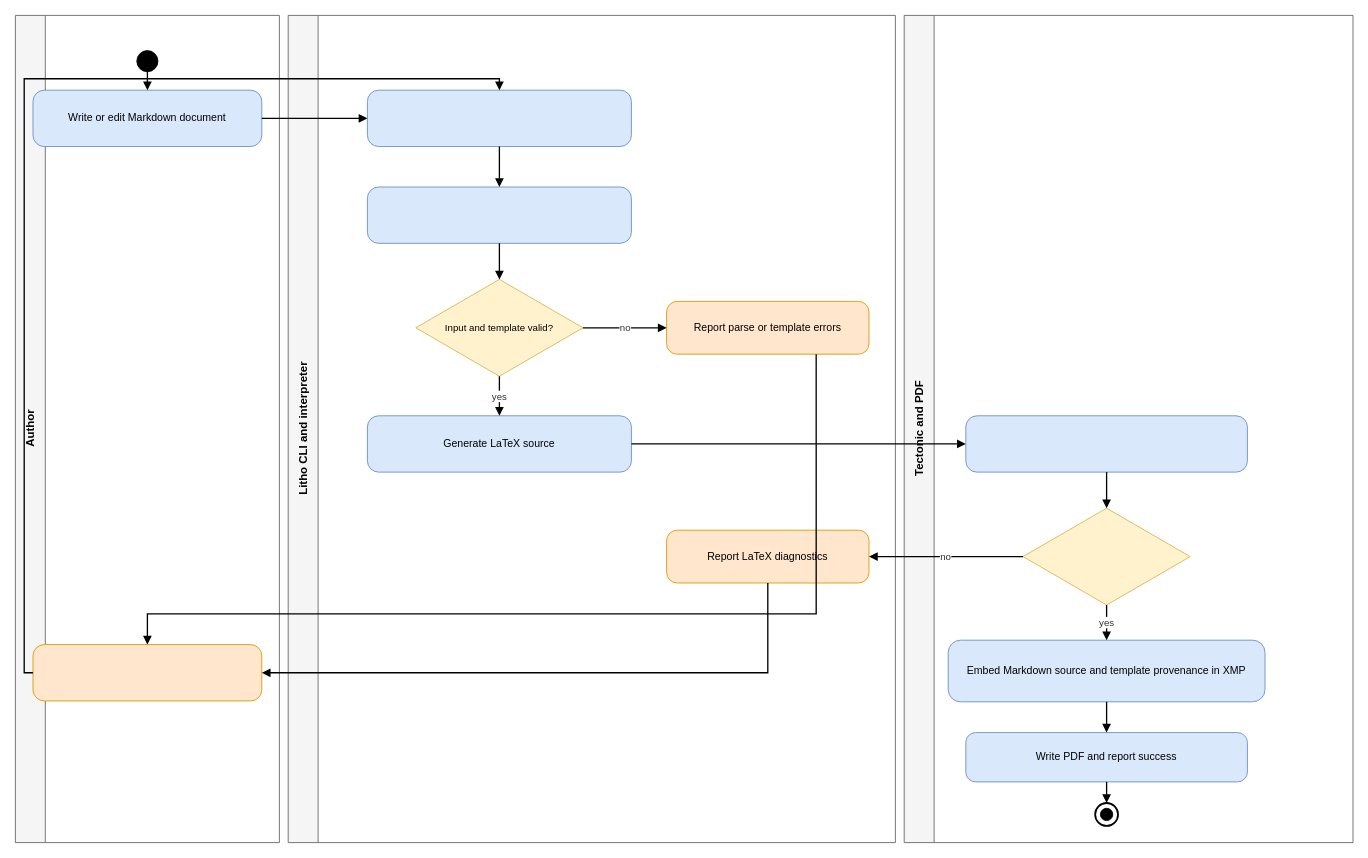
This 1368x858 diagram has some shape labels left out. The shapes that lost their labels are listed below. From the top down, each one's centre as x and y in pixels, then its label:
the point at 499,118: Run litho build (CLI, editor, or web)
the point at 499,214: Parse and bind content to the template
the point at 1106,443: Compile .tex with Tectonic
the point at 1106,556: Compilation succeeded?
the point at 147,672: Review errors and correct input
